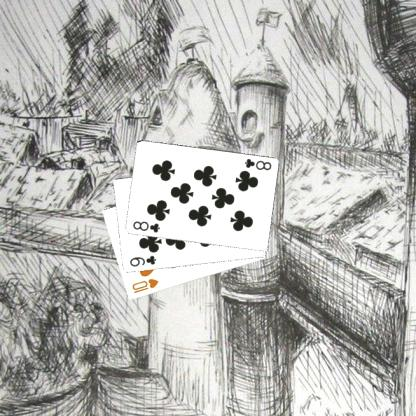10H: (129, 276, 160, 295)
8C: (241, 156, 273, 172), (130, 218, 161, 234)
9C: (127, 252, 157, 269)
